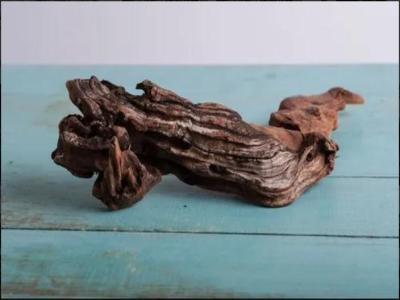Root: (51, 77, 363, 210)
